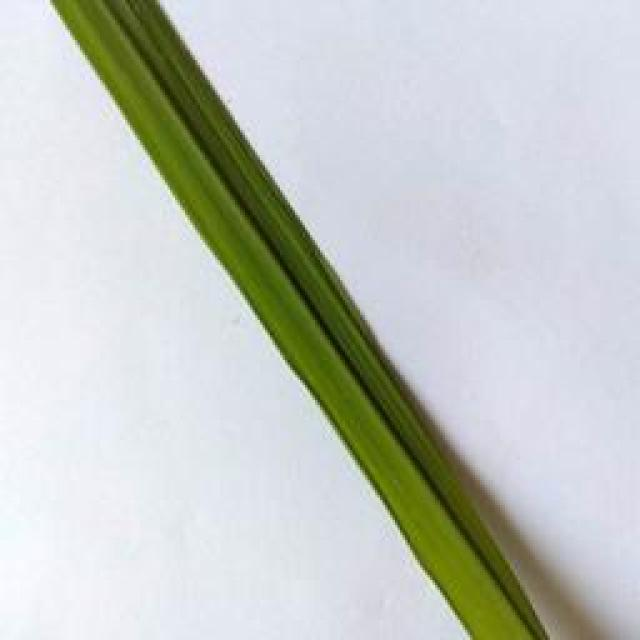Healthy-Plant: (49, 1, 453, 520)
